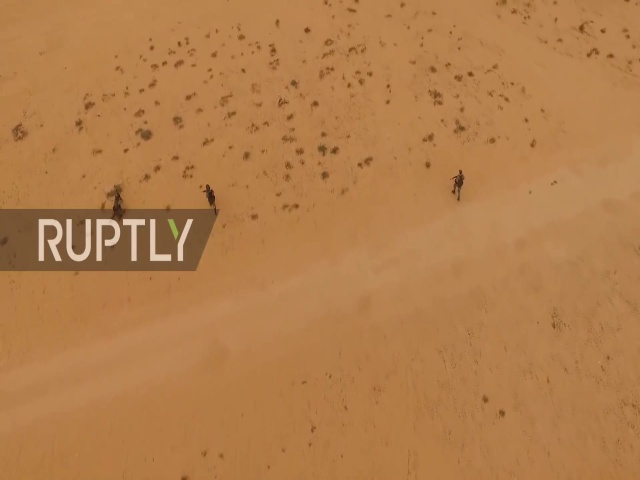person: (451, 169, 465, 201), (201, 182, 218, 208)
